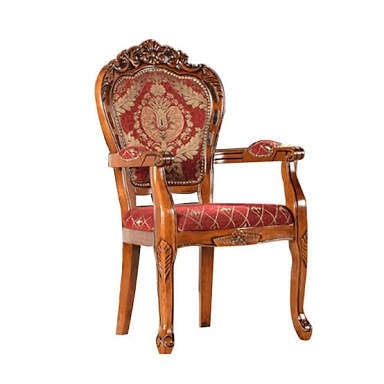Carving Chair: (98, 50, 325, 358)
